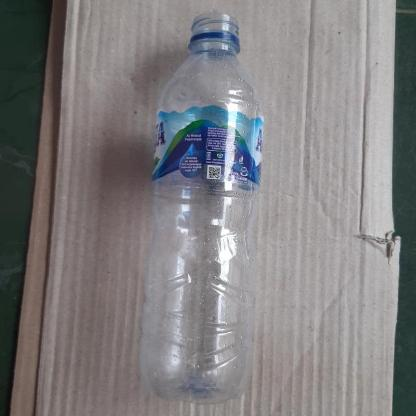Plastic Bottle: (135, 6, 279, 386)
